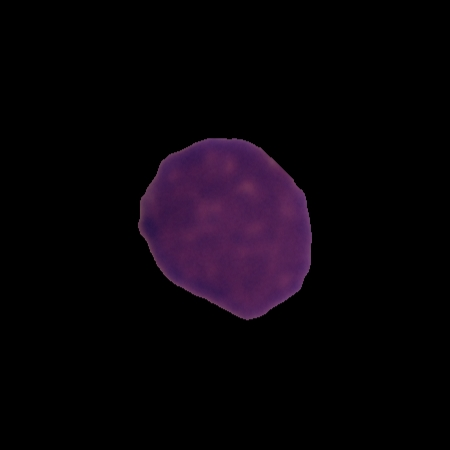HEM: (134, 134, 316, 323)
